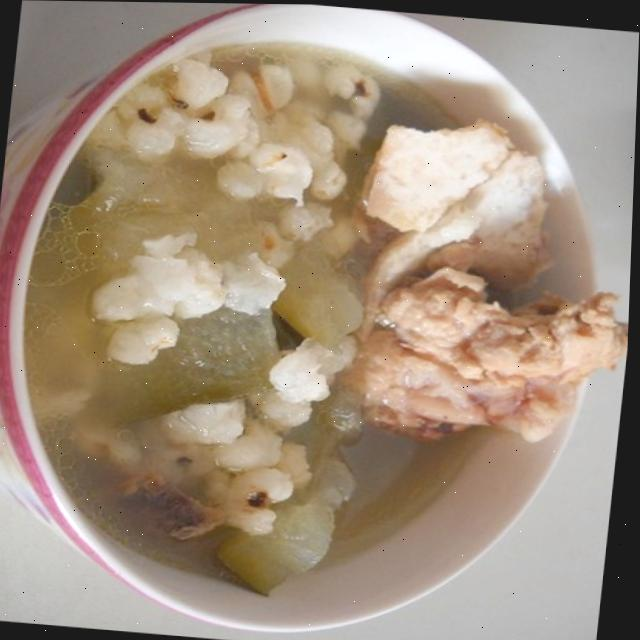汤锅炖物: (6, 0, 640, 636)
